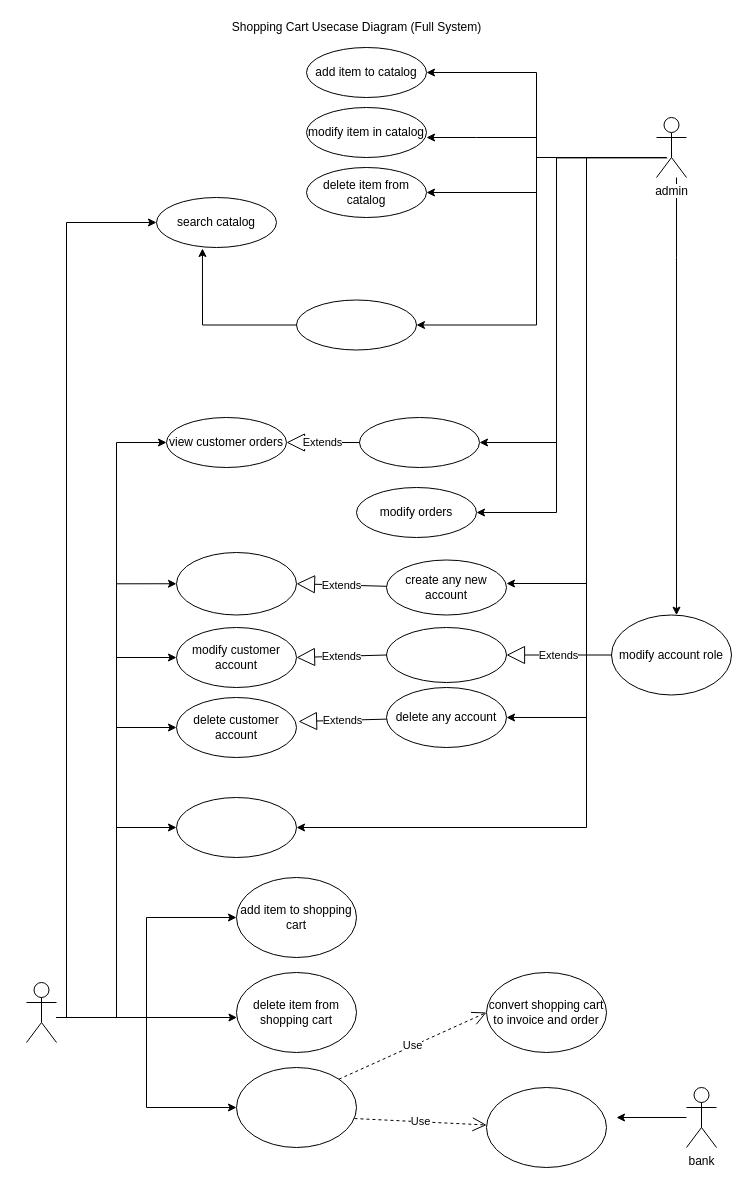
This 749x1185 diagram has some shape labels left out. The centre of each missing label's shape, as x and y in pixels:
create new customer account: point (236, 583)
customer: point (41, 1012)
login to system: point (236, 827)
modify any account: point (446, 654)
purchase items: point (296, 1107)
transfer money between accounts: point (546, 1127)
view all orders: point (419, 442)
view full catalog: point (356, 324)
